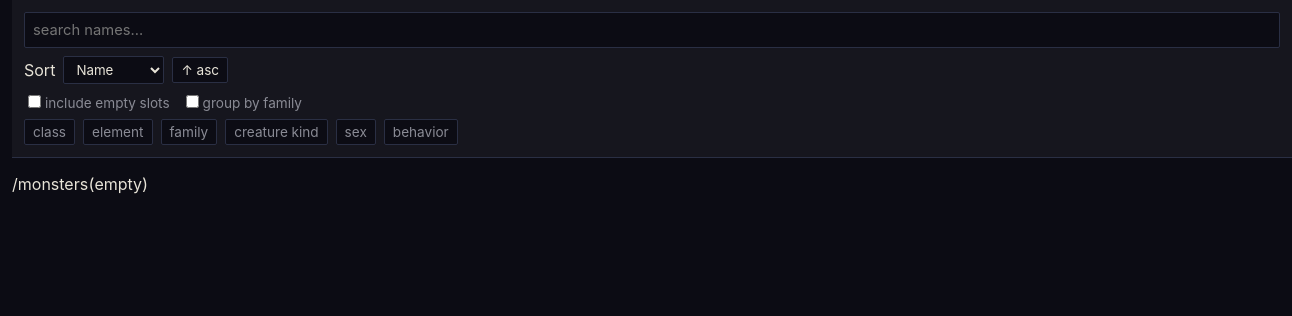
Test: MonsterFilters › checking a class adds it to the URL filter
Click the heading "class". click: (50, 132)
box: [33,124,66,140]
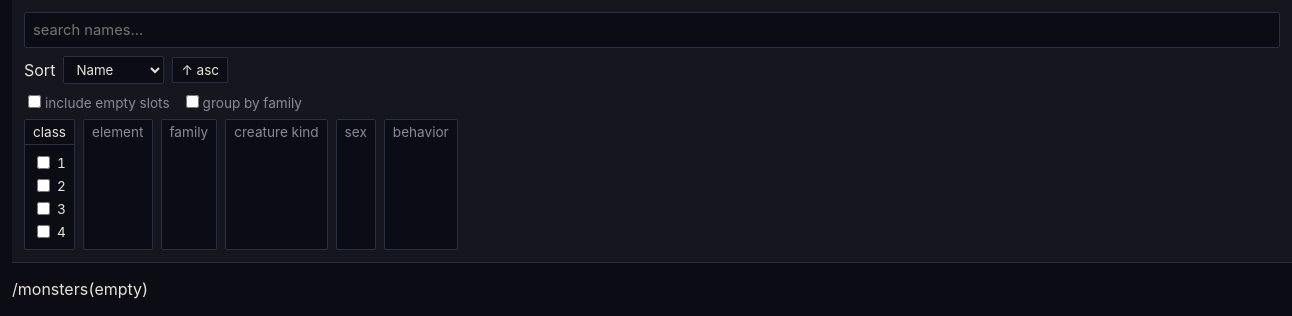
Click the checkbox named "class 2". click: (44, 186)
box: [37,179,50,192]
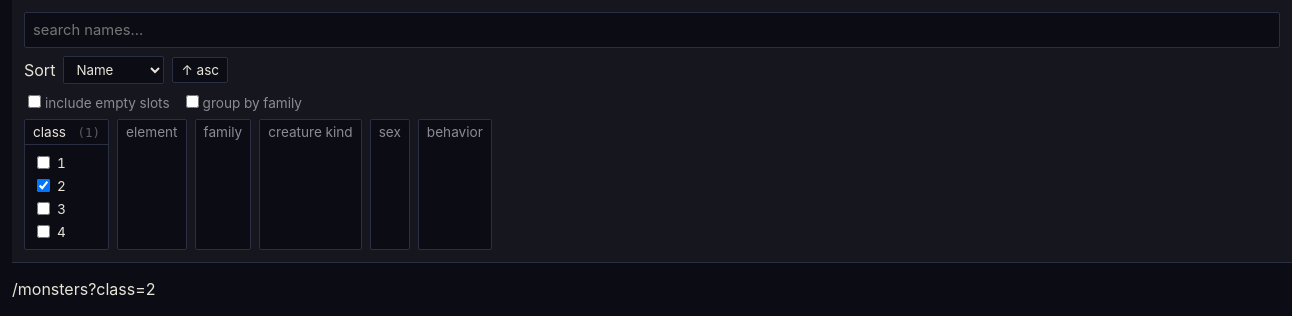
Expected: the text with test id "location" shows "class=2", [88,279,156,299]
